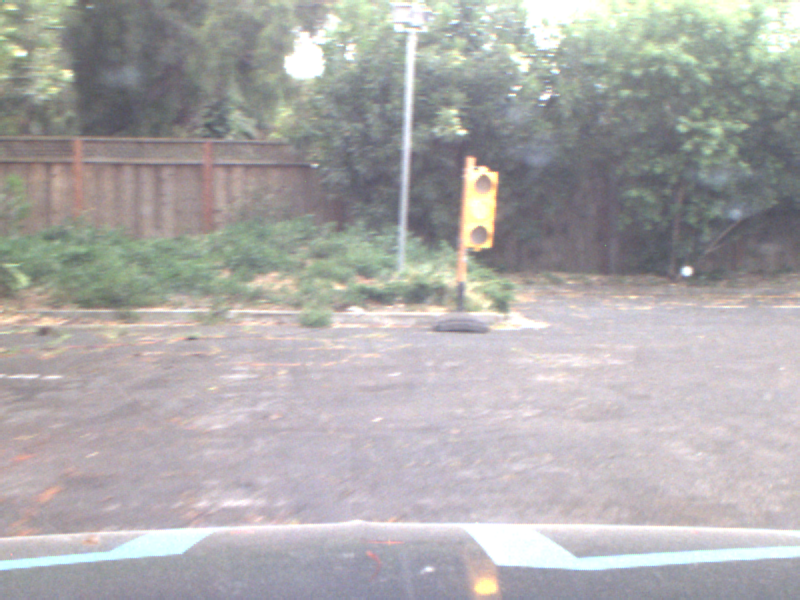Yellow: (460, 168, 493, 252)
